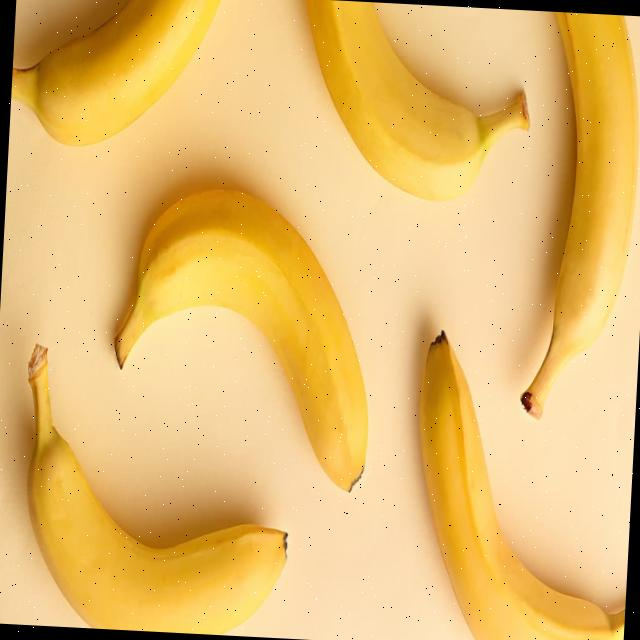Pisang: (106, 184, 382, 496), (15, 342, 298, 638), (407, 329, 639, 640), (296, 1, 537, 209), (519, 13, 640, 426), (10, 0, 224, 155)
